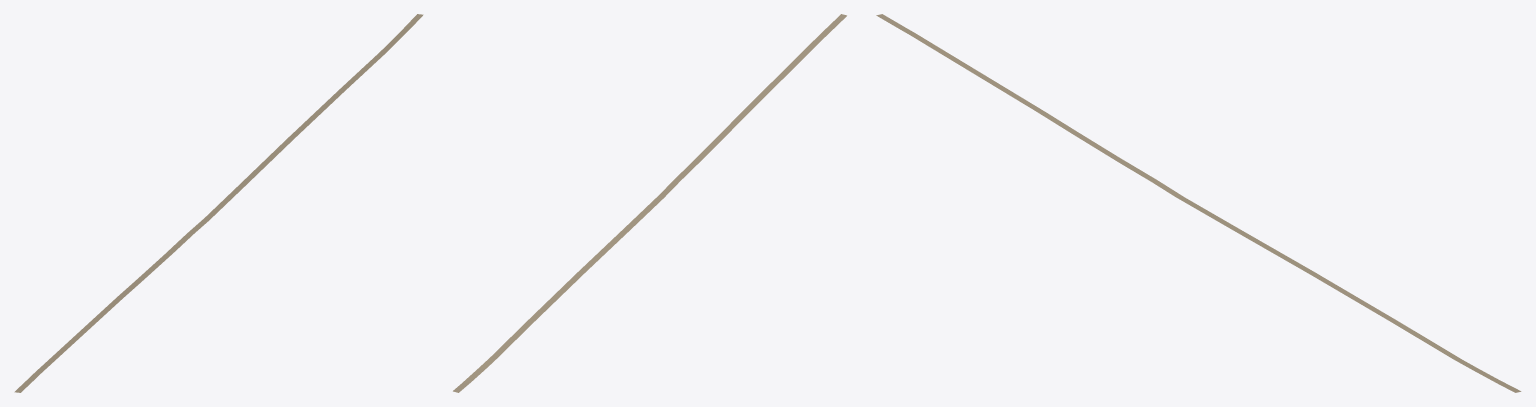
Rendered from farm_-10_-7_track.glb.
3 renders of one model, left to right at view 1: azimuth 30°, elevation 25°; view 2: azimuth 210°, elevation 25°; view 3: azimuth 270°, elevation 25°, orthographic. The views are drawn at different scales.
Visible parts, largest first — view 1: geometry_0; view 2: geometry_0; view 3: geometry_0.
Part boxes in pixels (bbox=[...]): geometry_0: bbox=[14, 14, 423, 392]; geometry_0: bbox=[453, 14, 846, 392]; geometry_0: bbox=[876, 14, 1521, 392].
Bounding box in the file's own units: 370 × 4.72 × 271.
